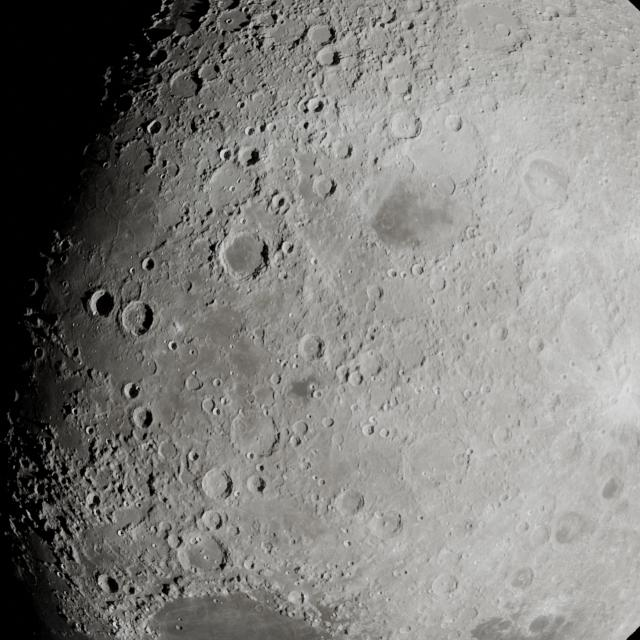crater: (222, 228, 271, 283), (178, 531, 232, 578), (120, 295, 158, 340), (198, 463, 238, 505), (84, 288, 120, 319), (299, 330, 330, 362), (93, 568, 125, 598), (306, 20, 338, 48), (314, 43, 345, 71), (130, 403, 158, 433), (236, 143, 264, 170), (312, 174, 338, 201), (245, 471, 271, 497), (144, 114, 166, 141), (121, 378, 142, 402), (203, 508, 226, 529), (304, 95, 328, 115), (85, 489, 105, 513), (139, 254, 160, 275), (281, 238, 300, 259), (271, 193, 290, 210), (220, 146, 234, 162)
